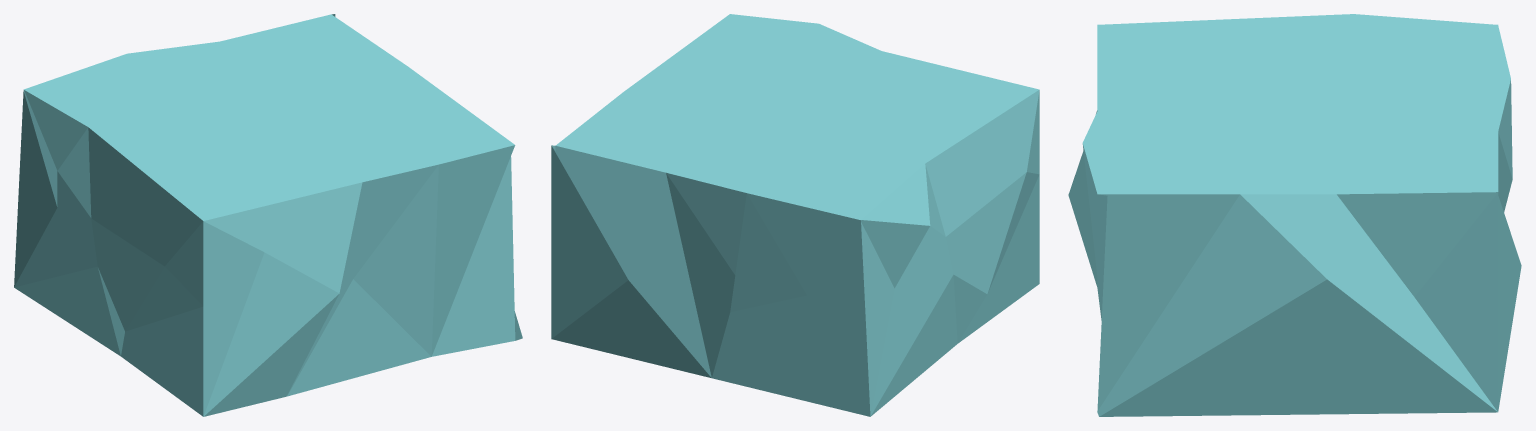
The model's file is triple_layer_ice.fbx.
The picture shows the model from 3 angles, left to right: view 1: azimuth 30°, elevation 25°; view 2: azimuth 150°, elevation 25°; view 3: azimuth 270°, elevation 25°; orthographic projection. The views are drawn at different scales.
Visible parts, largest first — view 1: Cube; view 2: Cube; view 3: Cube.
Part boxes in pixels (<box>): Cube: <box>14,14,522,416</box>; Cube: <box>551,14,1039,416</box>; Cube: <box>1068,14,1521,416</box>.
Bounding box in the file's own units: 225 × 126 × 226.
